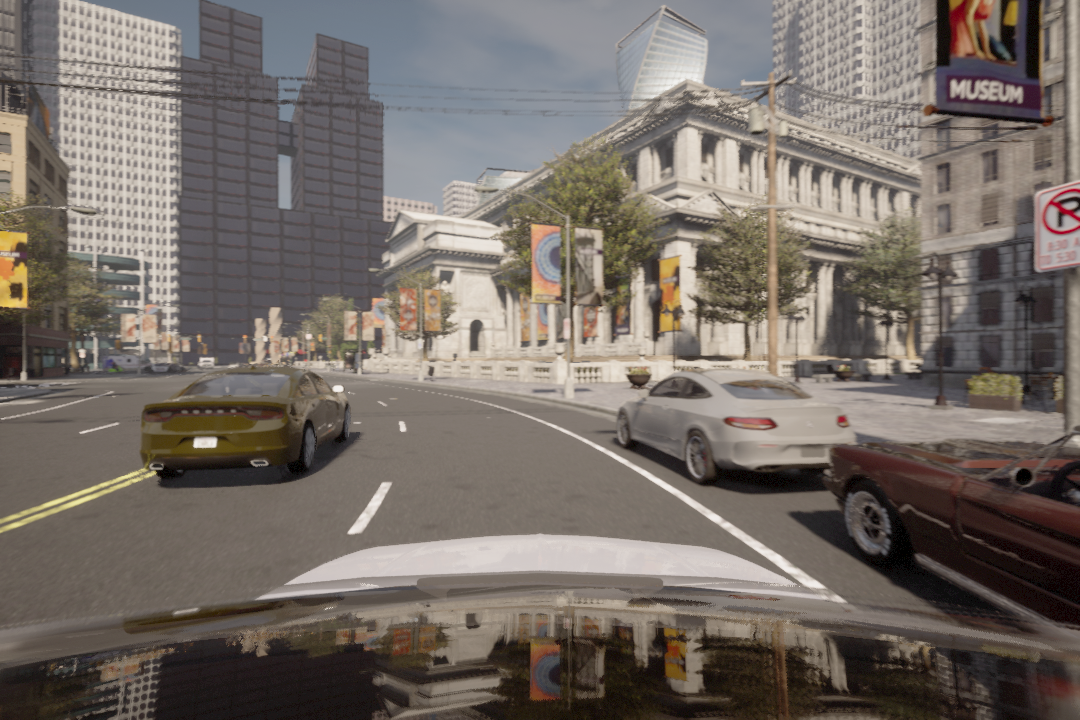TrafficSign_nstop: (1035, 189, 1080, 264)
